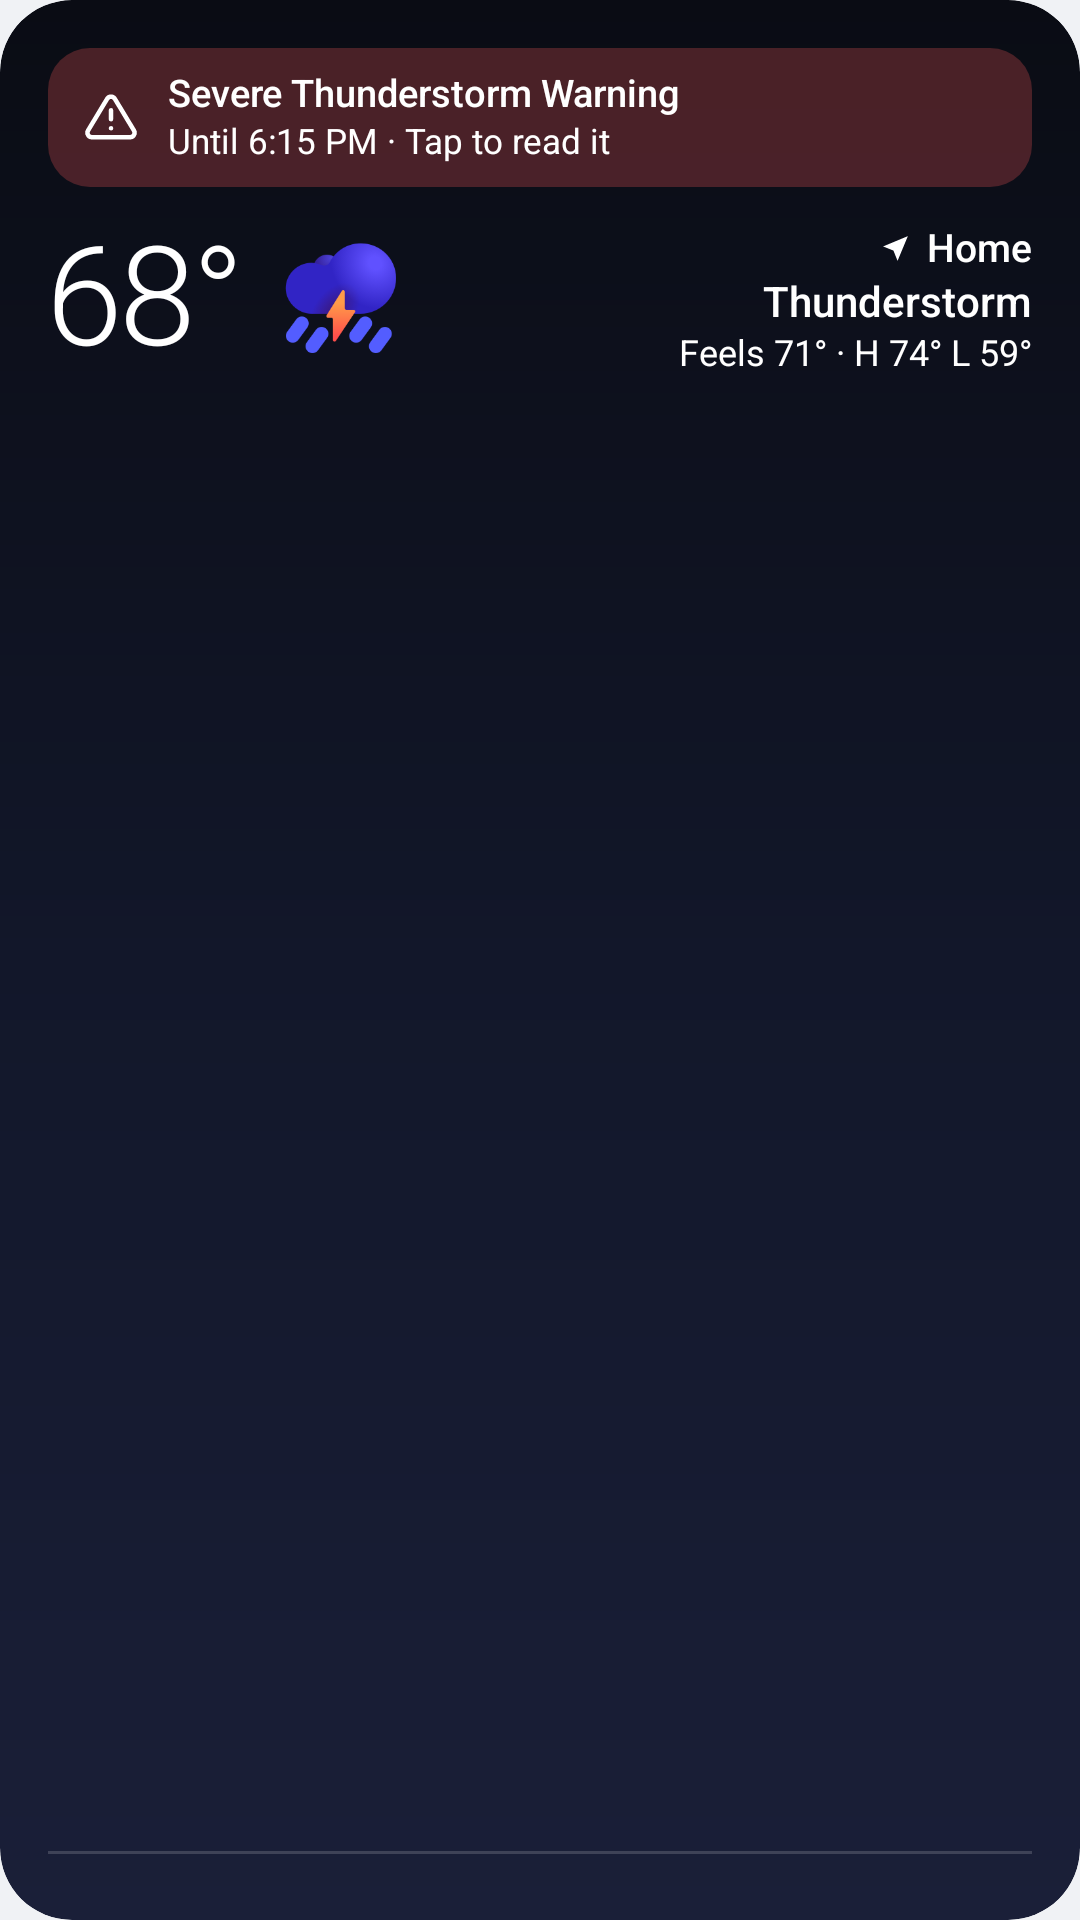

Named icons in this screenshot (1080px×1920px) and their centers, [x,y]:
widget alert: [111,117]
